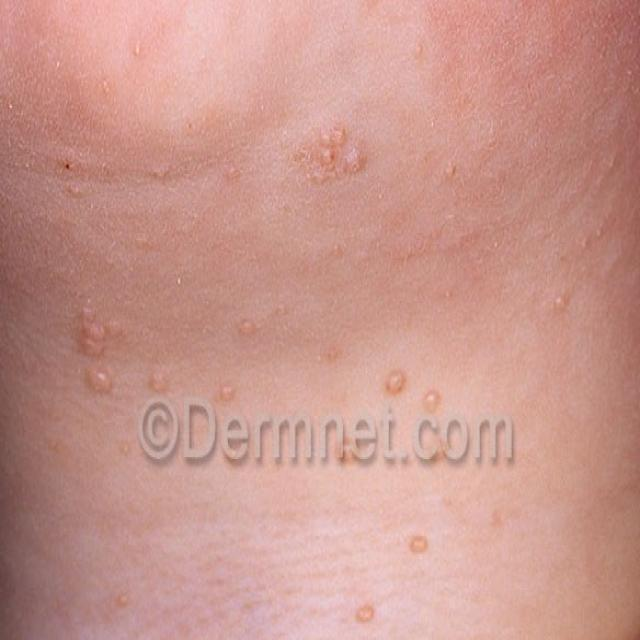Viral Infections: (71, 280, 182, 412), (281, 96, 383, 204), (375, 361, 452, 417), (401, 513, 444, 569), (535, 278, 578, 327), (349, 592, 379, 634)
